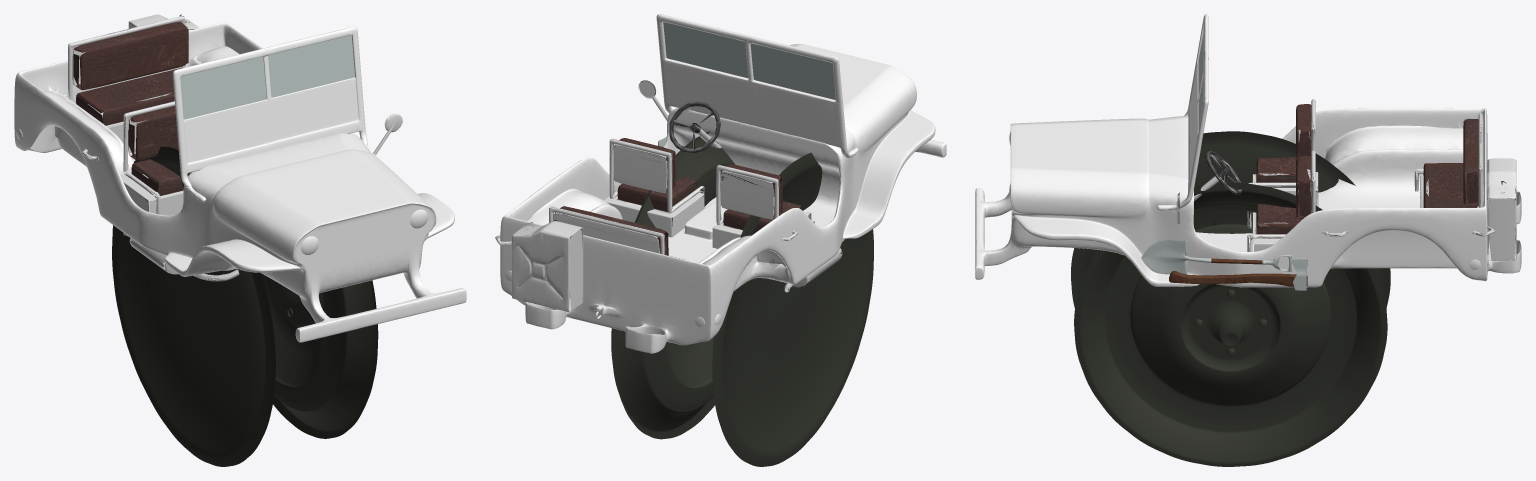
File: mule.glb
3 renders of one model, left to right at view 1: azimuth 30°, elevation 25°; view 2: azimuth 150°, elevation 25°; view 3: azimuth 270°, elevation 25°, orthographic. The views are drawn at different scales.
Parts seen in each view (by area): view 1: paint:11, rim:8, trim:6, paint:10, screen:0; view 2: paint:11, rim:8, trim:6, paint:10, screen:0; view 3: rim:8, paint:11, trim:6, paint:10, trim:13, trim:12.
Part boxes in pixels (x1=…): paint:11: x1=14, y1=22, x2=466, y2=342; rim:8: x1=112, y1=146, x2=378, y2=466; trim:6: x1=68, y1=14, x2=402, y2=281; paint:10: x1=172, y1=26, x2=376, y2=202; screen:0: x1=180, y1=35, x2=354, y2=119; paint:11: x1=500, y1=44, x2=946, y2=353; rim:8: x1=611, y1=131, x2=873, y2=466; trim:6: x1=495, y1=80, x2=844, y2=311; paint:10: x1=656, y1=14, x2=858, y2=158; screen:0: x1=663, y1=22, x2=835, y2=99; rim:8: x1=1071, y1=131, x2=1390, y2=466; paint:11: x1=975, y1=108, x2=1521, y2=287; trim:6: x1=1176, y1=99, x2=1516, y2=261; paint:10: x1=1156, y1=14, x2=1208, y2=210; trim:13: x1=1141, y1=240, x2=1307, y2=290; trim:12: x1=1169, y1=258, x2=1307, y2=286.
Size of the model in its own units: 1.67 by 2.71 by 3.41.
Materials: 11 (2 with a texture image).
